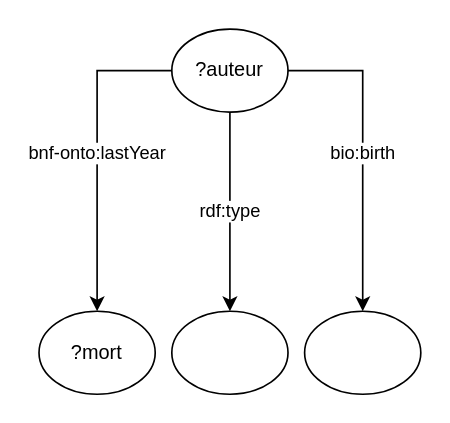
The diagram is 450 pixels wide and 423 high, and some of its shapes have lost their labels. The box of each missing label's shape, as (x1, y1, x2, y2) in pixels:
?naissance: (303, 310, 421, 394)
foaf:Person: (170, 310, 288, 394)
